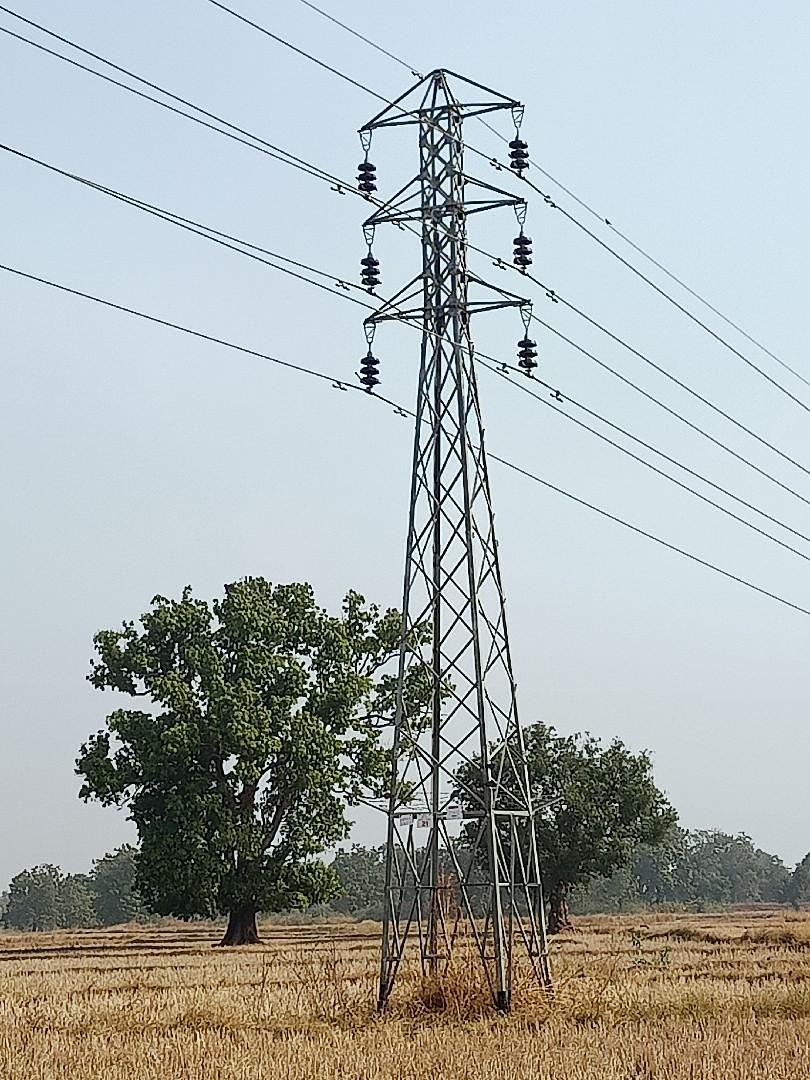GSM Antenna: (347, 62, 572, 942)
